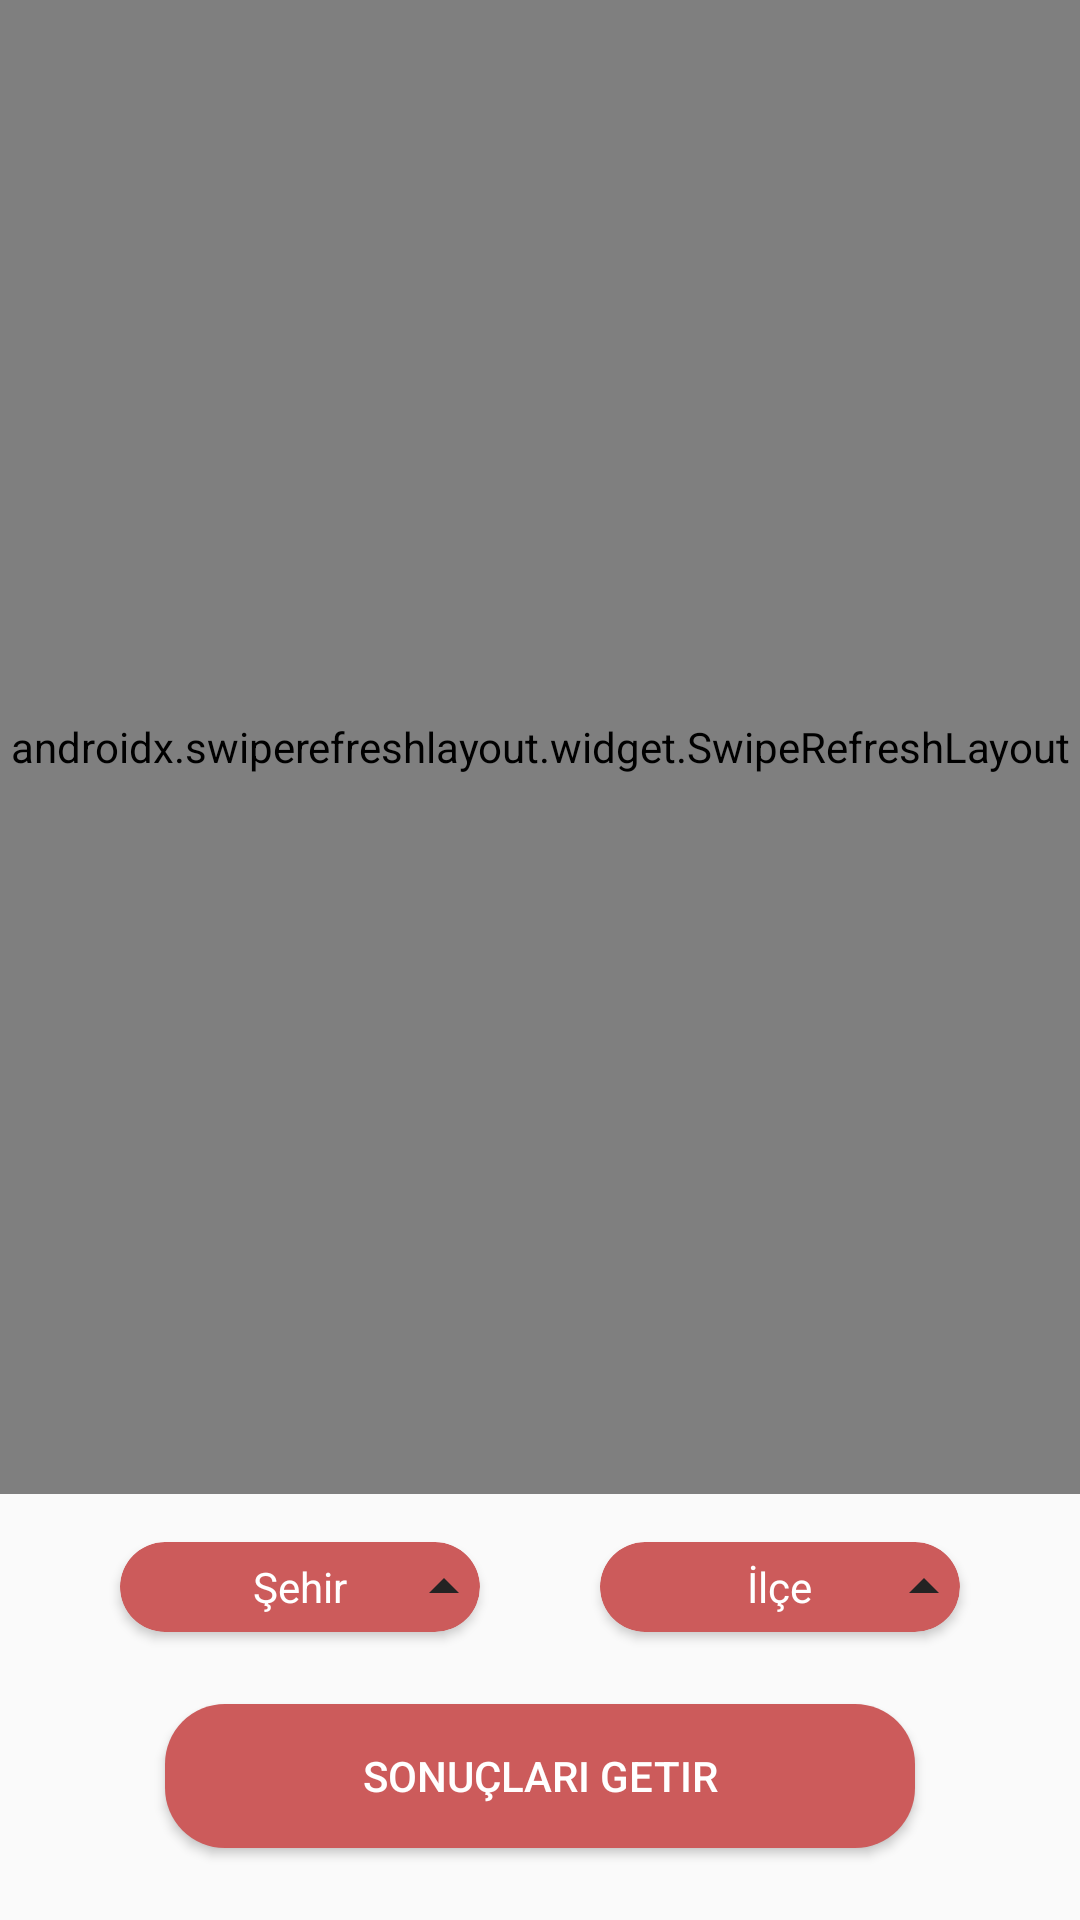

Icons on this 1080px×1920px Android screen, each with its box as rect(x1, y1, x2, y2):
arrow drop up: rect(408, 1542, 480, 1632), rect(888, 1542, 960, 1632)
